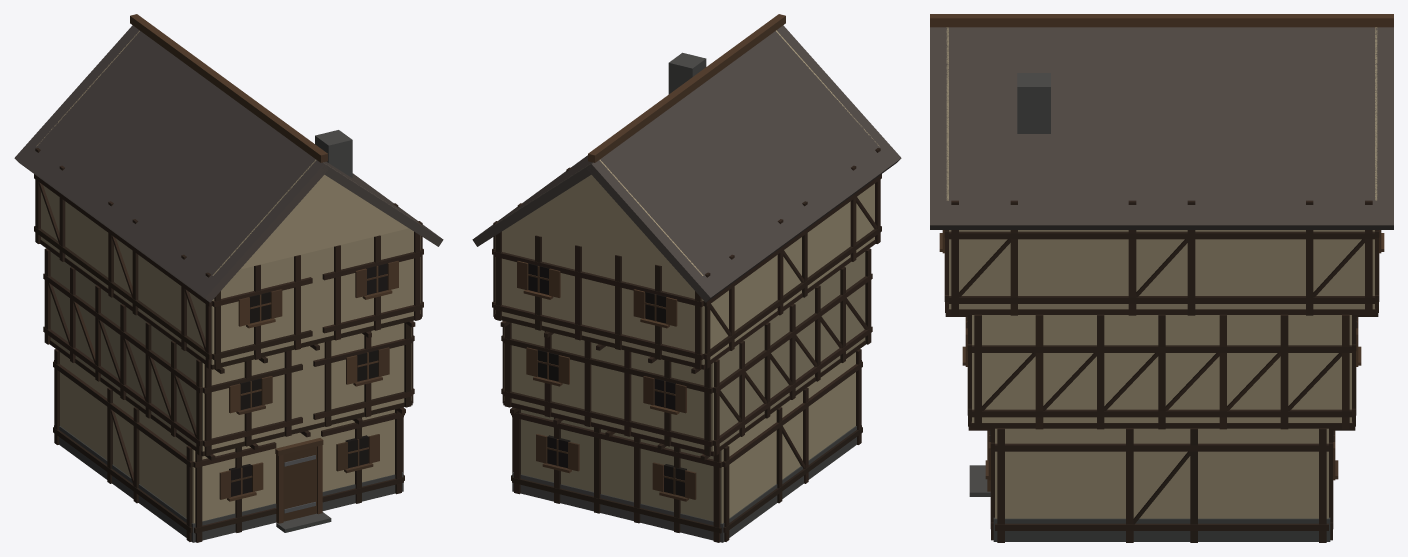
File: walk_hallowed_tall.glb
The picture shows the model from 3 angles, left to right: view 1: azimuth 30°, elevation 25°; view 2: azimuth 150°, elevation 25°; view 3: azimuth 270°, elevation 25°; orthographic projection. The views are drawn at different scales.
Visible parts, largest first — view 1: walk_hallowed_tall, walk_hallowed_tall_roof; view 2: walk_hallowed_tall, walk_hallowed_tall_roof; view 3: walk_hallowed_tall, walk_hallowed_tall_roof.
Boxes of the visible parts, left/top/right/bottom form: walk_hallowed_tall: left=34, top=148, right=423, bottom=542; walk_hallowed_tall_roof: left=14, top=14, right=443, bottom=302; walk_hallowed_tall: left=492, top=148, right=881, bottom=542; walk_hallowed_tall_roof: left=472, top=14, right=901, bottom=302; walk_hallowed_tall: left=939, top=200, right=1384, bottom=542; walk_hallowed_tall_roof: left=930, top=14, right=1393, bottom=229.
Size of what is drawn, in the model's own units: 8 by 12.34 by 11.1.
Materials: 2 (2 with a texture image).
